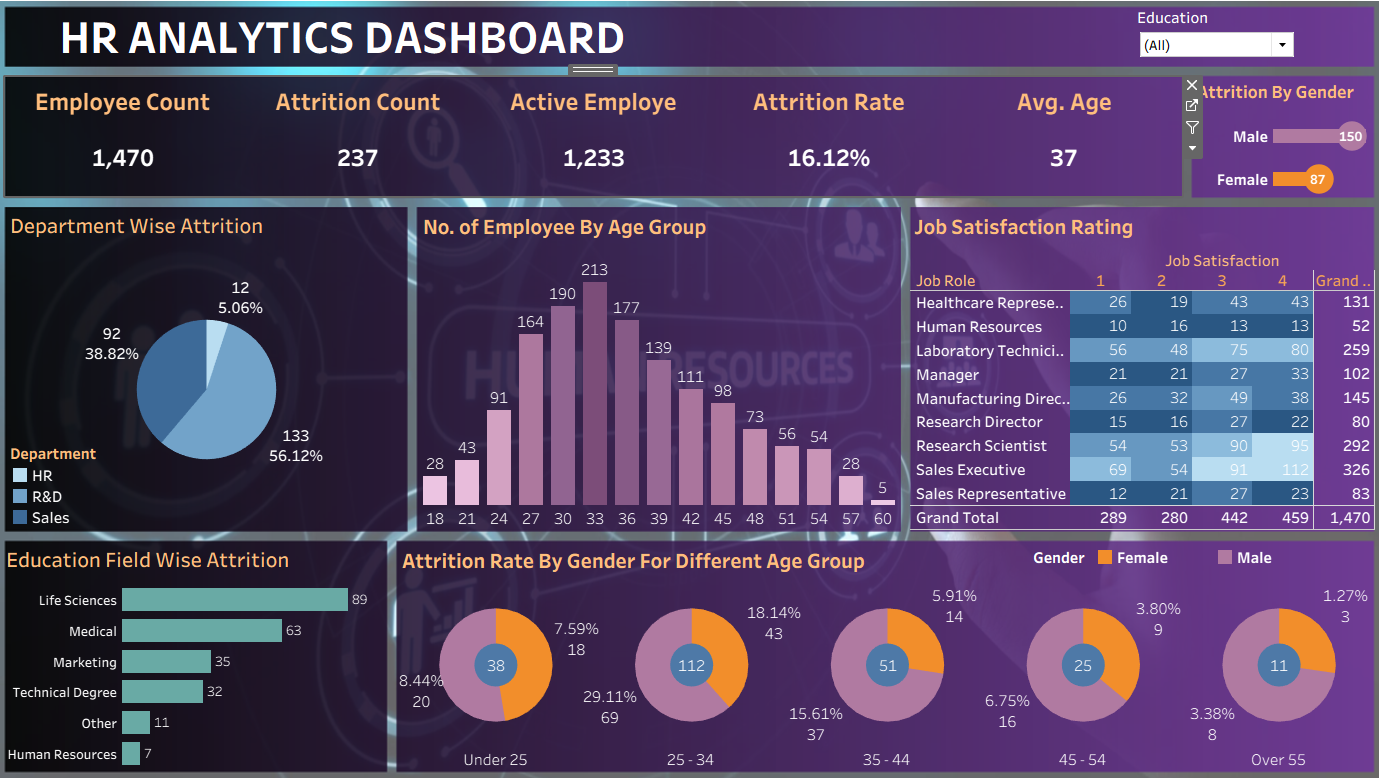

Layout of this report page (visuals, bound fields, positions):
{"tool":"tableau","page":{"name":"Dashboard 1","canvas":[1000,1000],"units":"permille","ordinal":0},"visuals":[{"type":"image","param":"C:/Users/loq/OneDrive/Desktop/tableau/HR_background.pptx.png","box":[6.8,12.9,986.4,974.2]},{"type":"text","box":[41.6,18.7,380.2,77.4]},{"type":"filter","title":"Sheet 7","param":"[federated.00fpjkd0s4nnnq17g1gcd03g4yvi].[none:Education:nk]","box":[694,22.5,96.6,72.4]},{"type":"worksheet","title":"Sheet 4","mark":"Automatic","rows":["Gender"],"cols":["Calculation_1061600894611456","Calculation_1061600894611456"],"box":[727.8,108.6,107.4,156.1]},{"type":"worksheet","title":"Sheet 1","mark":"Automatic","box":[10.9,109.9,710.3,148.6]},{"type":"worksheet","title":"Sheet 2","mark":"Pie","box":[11.5,272.2,242,402]},{"type":"worksheet","title":"Sheet 7","mark":"Automatic","rows":["Employee Count"],"cols":["Age (bin)"],"box":[260.7,273.4,289.7,402]},{"type":"worksheet","title":"Sheet 5","mark":"Square","rows":["Job Role"],"cols":["Job Satisfaction"],"box":[557,273.4,280.6,402]},{"type":"legend","title":"Sheet 7","param":"[federated.00fpjkd0s4nnnq17g1gcd03g4yvi].[sum:Age:qk]","box":[472.5,284.6,75.4,84.9]},{"type":"legend","title":"Sheet 2","param":"[federated.00fpjkd0s4nnnq17g1gcd03g4yvi].[none:Department:nk]","box":[13.9,566.8,84.5,106.1]},{"type":"worksheet","title":"Sheet 3","mark":"Automatic","rows":["Education Field"],"cols":["Calculation_1061600894611456"],"box":[9.1,689.1,230.5,284.6]},{"type":"worksheet","title":"Sheet 6","mark":"Pie","rows":["Calculation_1061600909729795","Calculation_1061600909729795"],"cols":["CF_age band"],"box":[248,690.4,590.8,284.6]},{"type":"legend","title":"Sheet 6","param":"[federated.00fpjkd0s4nnnq17g1gcd03g4yvi].[none:Gender:nk]","box":[625.2,696.6,203.4,35]}]}

Visuals, with their boxes on the dashboard's canvas, which has no fixed pixel size, in thousandths of its width and height (x1, y1, x2, y2). These are canvas units, not pixel positions in the 1379x778 screenshot, which may show the page scaled, cropped or inside an application window:
image: <box>7,13,993,987</box>
text: <box>42,19,422,96</box>
"Sheet 7" filter: <box>694,22,791,95</box>
"Sheet 4" worksheet: <box>728,109,835,265</box>
"Sheet 1" worksheet: <box>11,110,721,258</box>
"Sheet 2" worksheet (Pie marks): <box>12,272,254,674</box>
"Sheet 7" worksheet: <box>261,273,550,675</box>
"Sheet 5" worksheet (Square marks): <box>557,273,838,675</box>
"Sheet 7" legend: <box>472,285,548,370</box>
"Sheet 2" legend: <box>14,567,98,673</box>
"Sheet 3" worksheet: <box>9,689,240,974</box>
"Sheet 6" worksheet (Pie marks): <box>248,690,839,975</box>
"Sheet 6" legend: <box>625,697,829,732</box>
